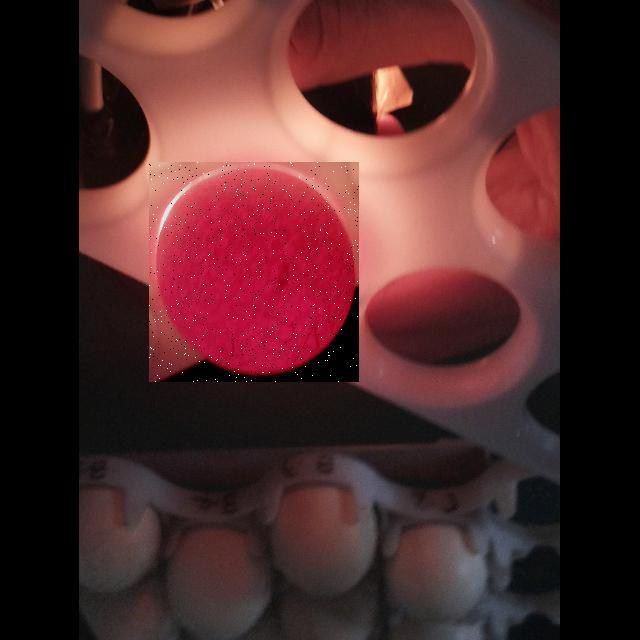Infertile: (149, 162, 359, 382)
